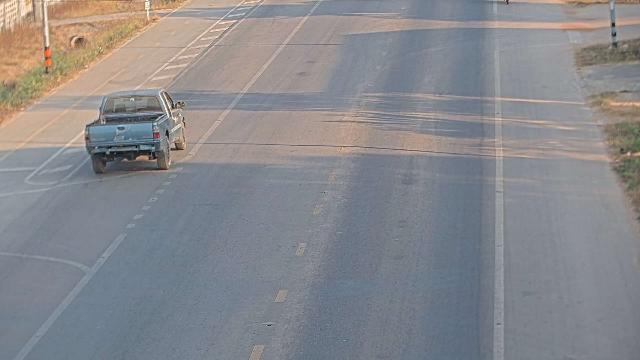pickup-truck: (84, 88, 187, 174)
